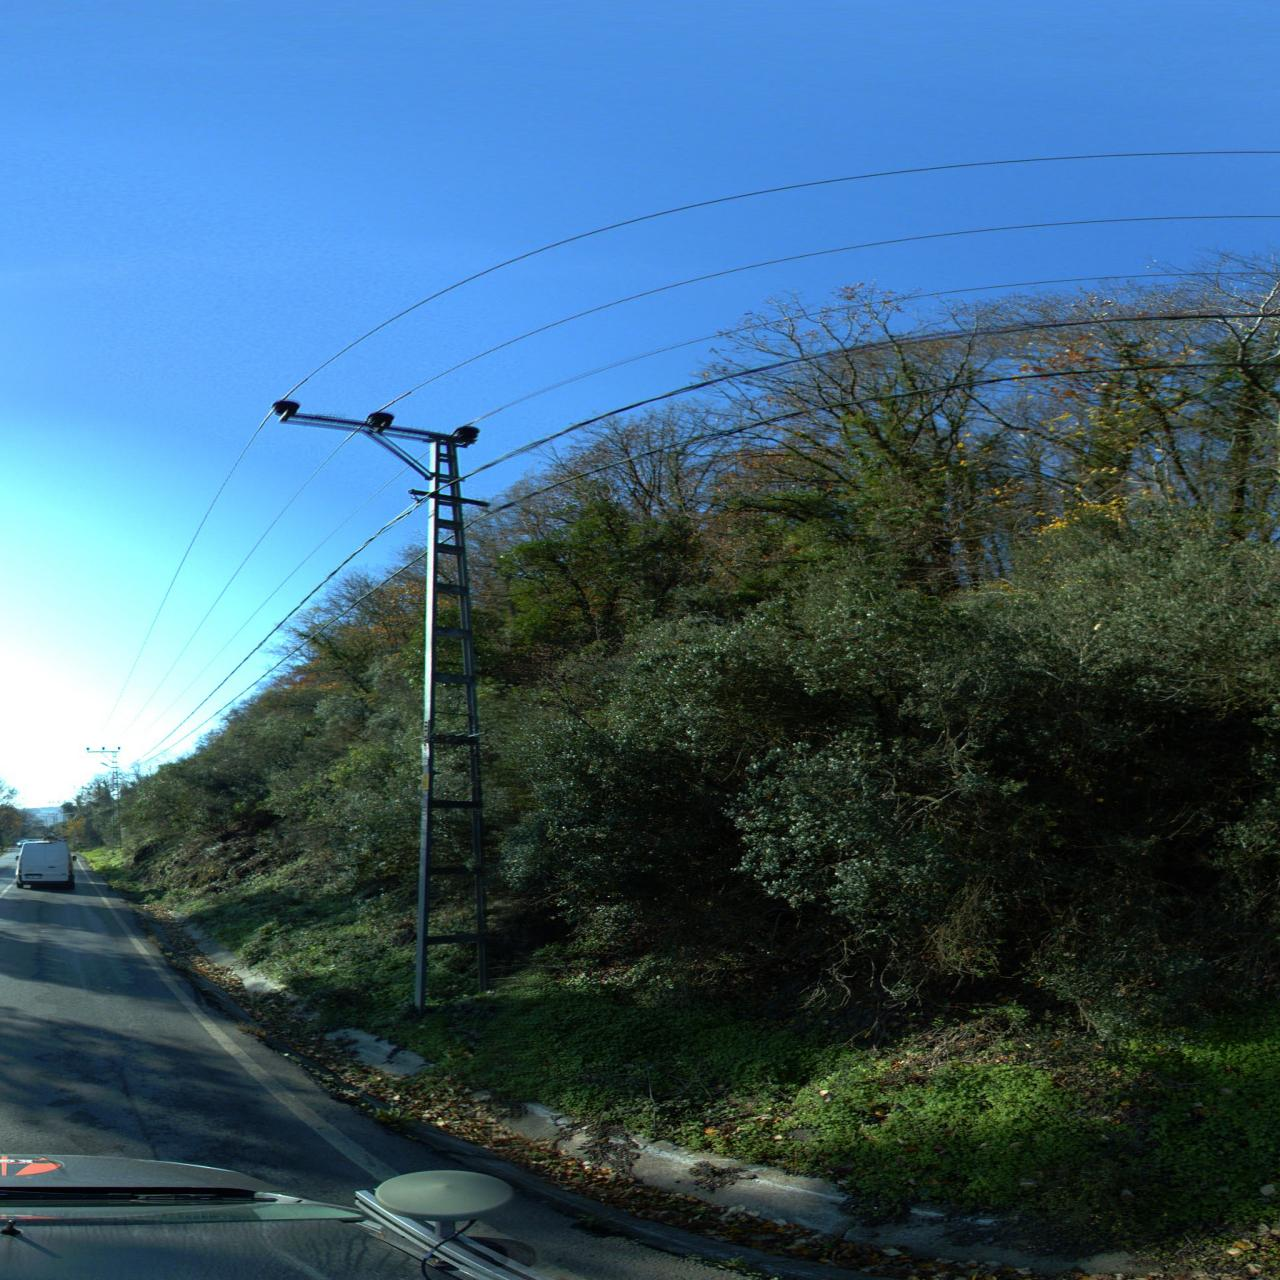Utility Pole Information Plate: (420, 774, 430, 790), (421, 743, 430, 760)
